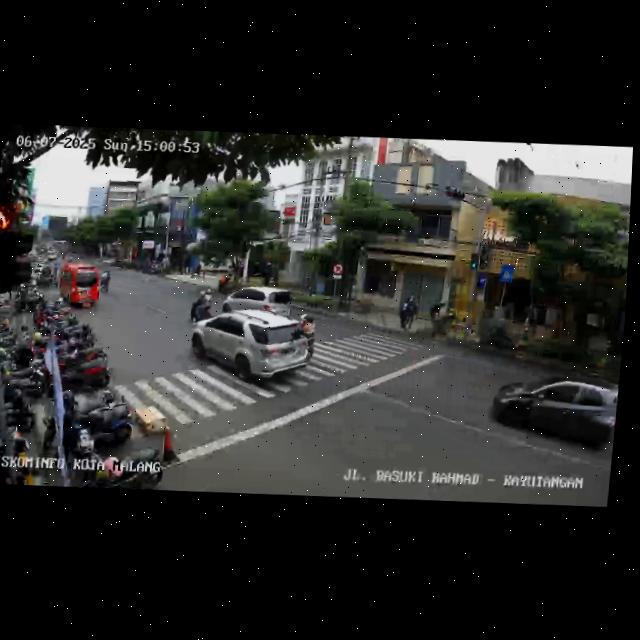car: (484, 368, 620, 462), (189, 308, 314, 393), (56, 262, 103, 311)
motorcycle: (188, 288, 215, 326), (297, 312, 319, 358), (217, 271, 230, 293), (100, 270, 112, 293)
person: (401, 297, 421, 329)
